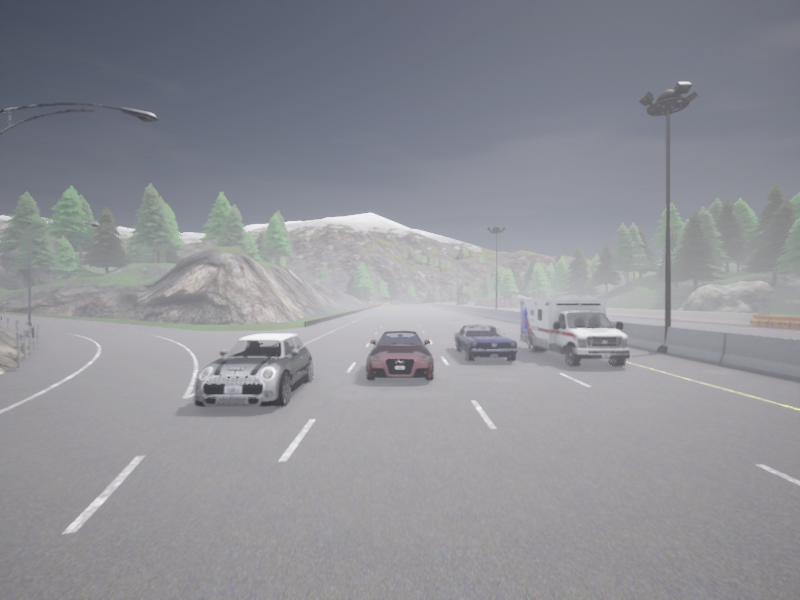vehicle: (195, 333, 312, 406), (519, 299, 629, 366), (366, 330, 433, 380), (454, 325, 517, 361), (458, 297, 465, 304), (464, 301, 467, 304)
